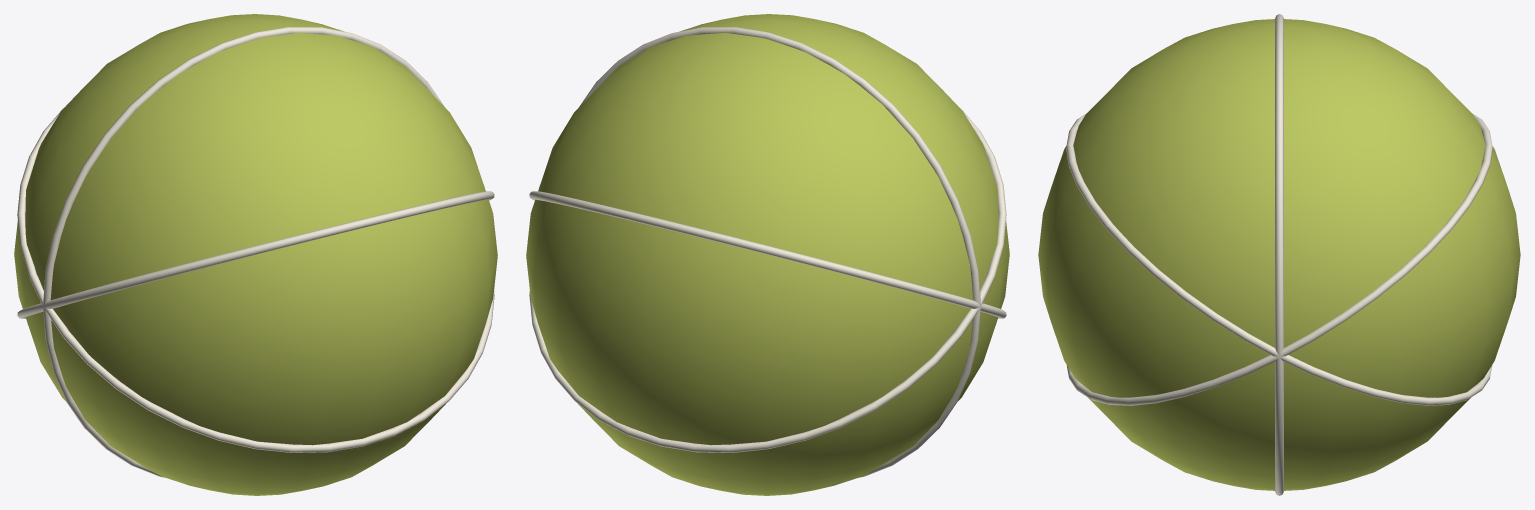
Rendered from wp-balle-de-tennis.glb.
3 renders of one model, left to right at view 1: azimuth 30°, elevation 25°; view 2: azimuth 150°, elevation 25°; view 3: azimuth 270°, elevation 25°, orthographic.
Parts seen in each view (by area): view 1: wp-balle-de-tennis; view 2: wp-balle-de-tennis; view 3: wp-balle-de-tennis.
Part boxes in pixels (x1,y1,x2,y2): wp-balle-de-tennis: (14, 14, 497, 495); wp-balle-de-tennis: (526, 14, 1009, 495); wp-balle-de-tennis: (1038, 14, 1520, 495).
Bounding box in the file's own units: 0.067 × 0.067 × 0.067.
